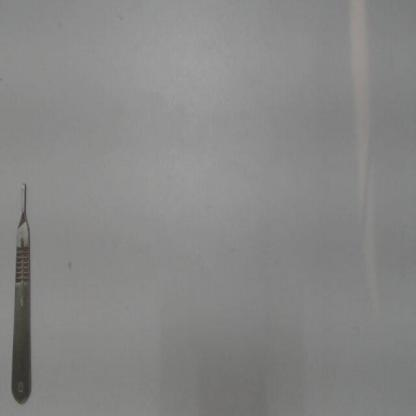No.3 BP Handle: (8, 169, 38, 408)
